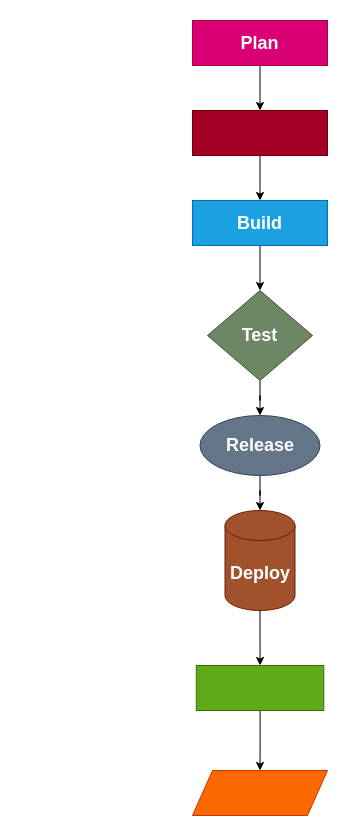
Some shapes in this 345 by 833 pixel diagram are drawn without their labels. The centre of each missing label's shape, as x and y in pixels:
"Develop" goes at (260,133).
"Rectangle" goes at (259,687).
